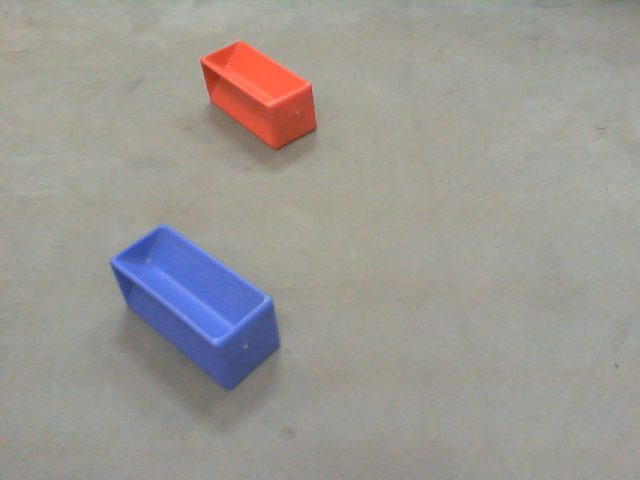BlueSample: (103, 219, 285, 390)
RedSample: (198, 30, 321, 154)
